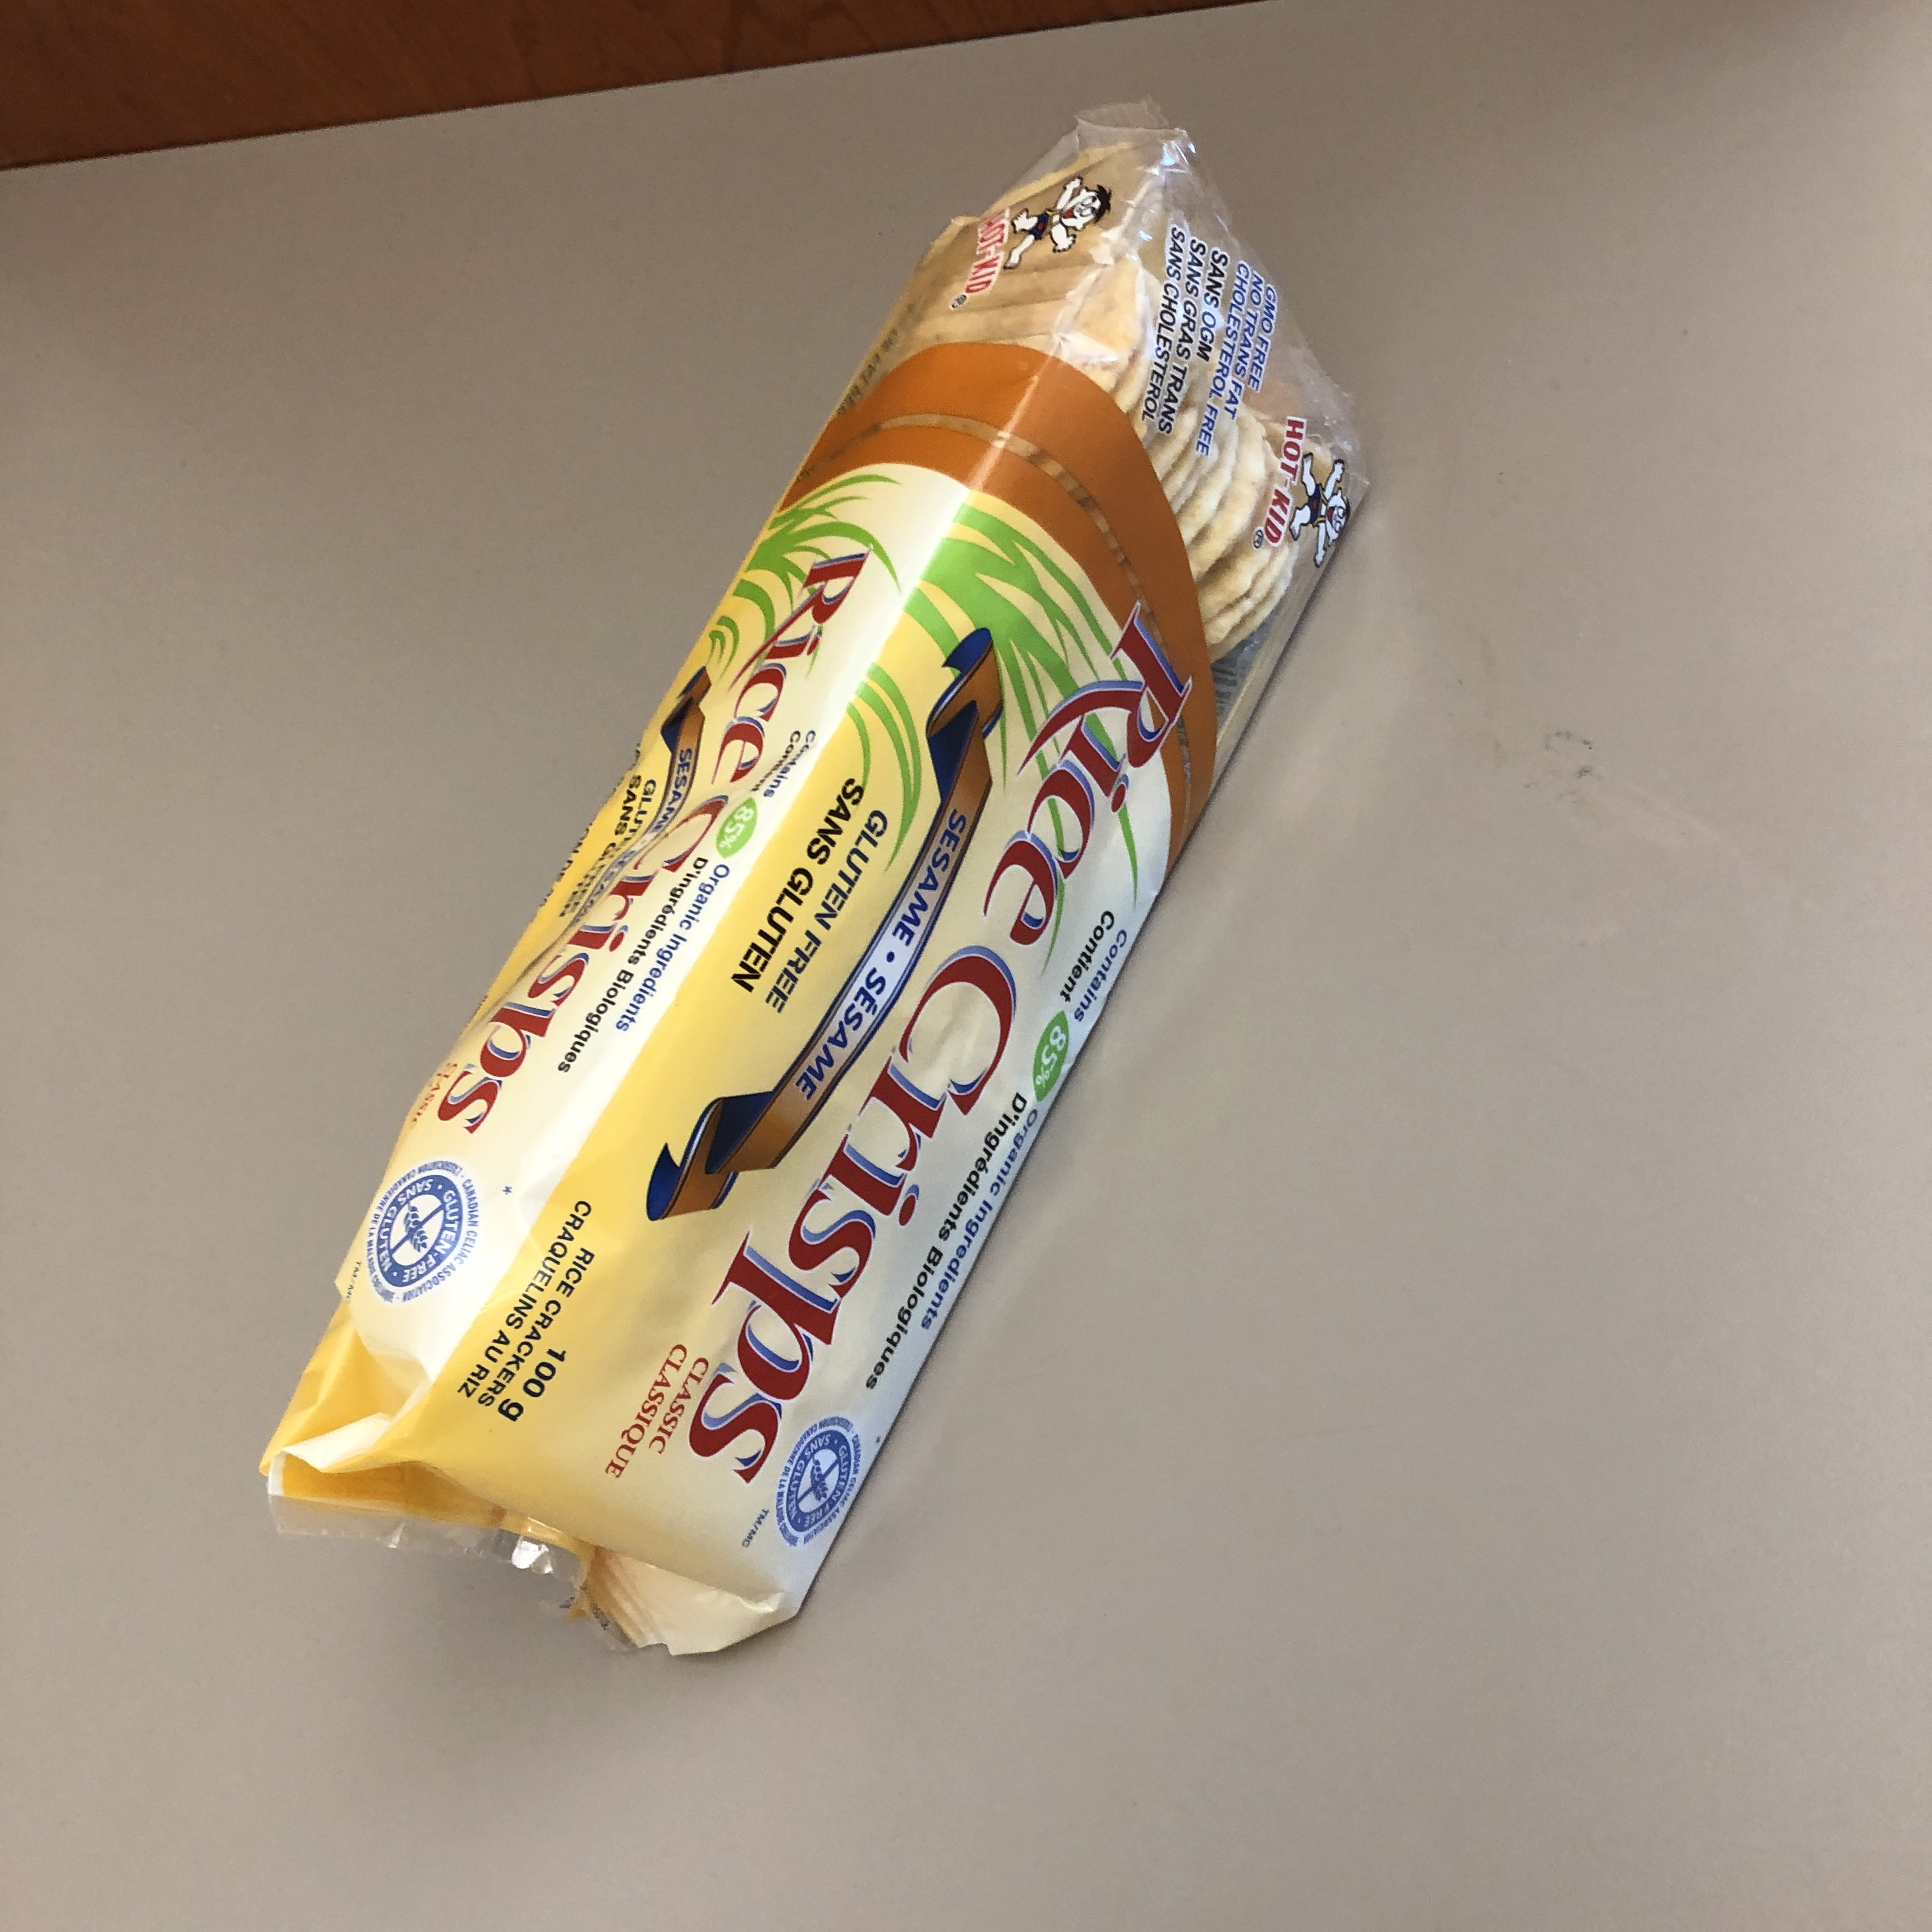hot_kid_rice_crisps_sesame: (113, 579, 1609, 1571)
